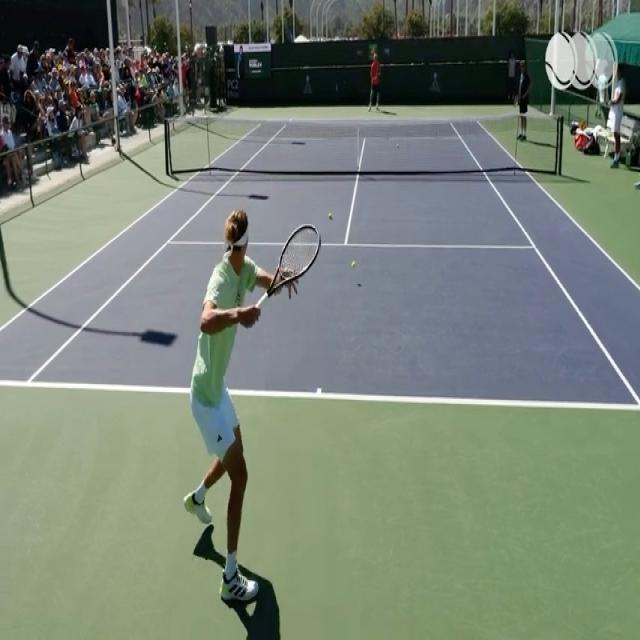forehand-ready: (173, 198, 320, 606)
